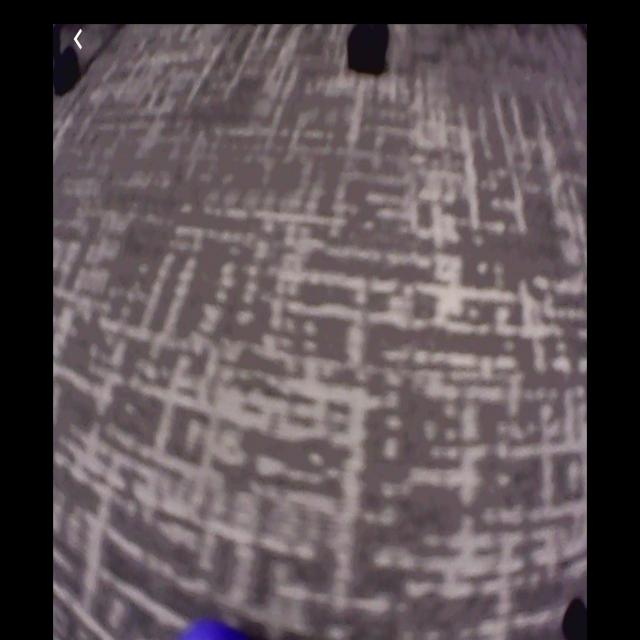ball: (176, 620, 255, 640)
